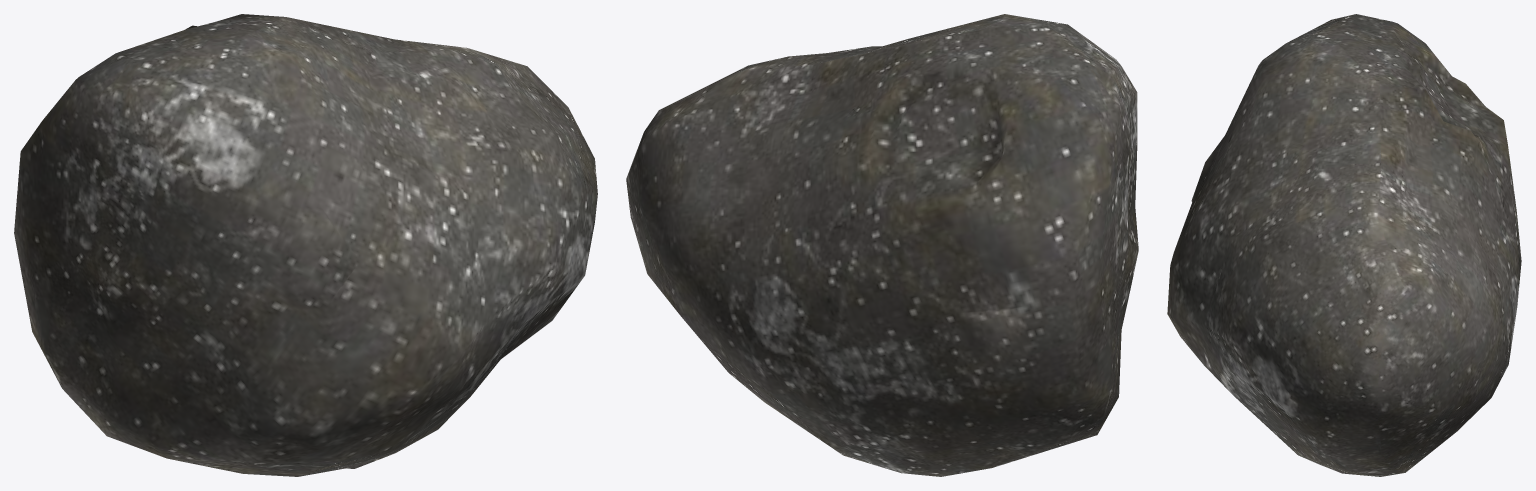
Rendered from asteroid_low_poly.glb.
3 views of the same model, side by side, from view 1: azimuth 30°, elevation 25°; view 2: azimuth 150°, elevation 25°; view 3: azimuth 270°, elevation 25° (orthographic). The views are drawn at different scales.
Parts seen in each view (by area): view 1: Daphne_LP.001; view 2: Daphne_LP.001; view 3: Daphne_LP.001.
Boxes of the visible parts, x1,y1,x2,y2 form: Daphne_LP.001: (14, 14, 597, 476); Daphne_LP.001: (626, 14, 1138, 476); Daphne_LP.001: (1167, 14, 1521, 476).
Bounding box in the file's own units: 29.22 × 24.63 × 20.9.
1 material, 1 textured.
